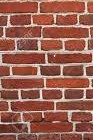brick: (44, 26, 89, 38), (39, 2, 85, 12), (48, 53, 93, 63), (2, 53, 45, 63), (1, 78, 43, 88), (46, 78, 88, 88), (30, 122, 72, 132), (1, 2, 38, 13), (5, 27, 40, 37), (10, 102, 53, 110), (55, 101, 93, 109), (1, 123, 28, 132), (16, 39, 38, 50), (64, 40, 85, 50), (11, 67, 37, 75), (1, 112, 21, 122), (32, 15, 54, 24), (40, 40, 62, 49), (71, 112, 93, 121), (10, 15, 31, 24), (57, 15, 78, 24), (63, 67, 83, 76), (64, 90, 84, 99), (43, 113, 68, 120), (23, 113, 42, 122), (75, 121, 92, 131), (40, 67, 60, 75), (21, 90, 40, 98), (42, 90, 61, 98), (1, 39, 15, 49), (1, 90, 18, 98), (17, 134, 38, 140), (61, 134, 82, 140), (38, 134, 60, 139), (80, 15, 93, 23), (1, 134, 15, 140), (1, 67, 9, 75), (1, 101, 9, 109), (1, 16, 8, 25), (86, 89, 93, 98), (83, 134, 93, 138)
